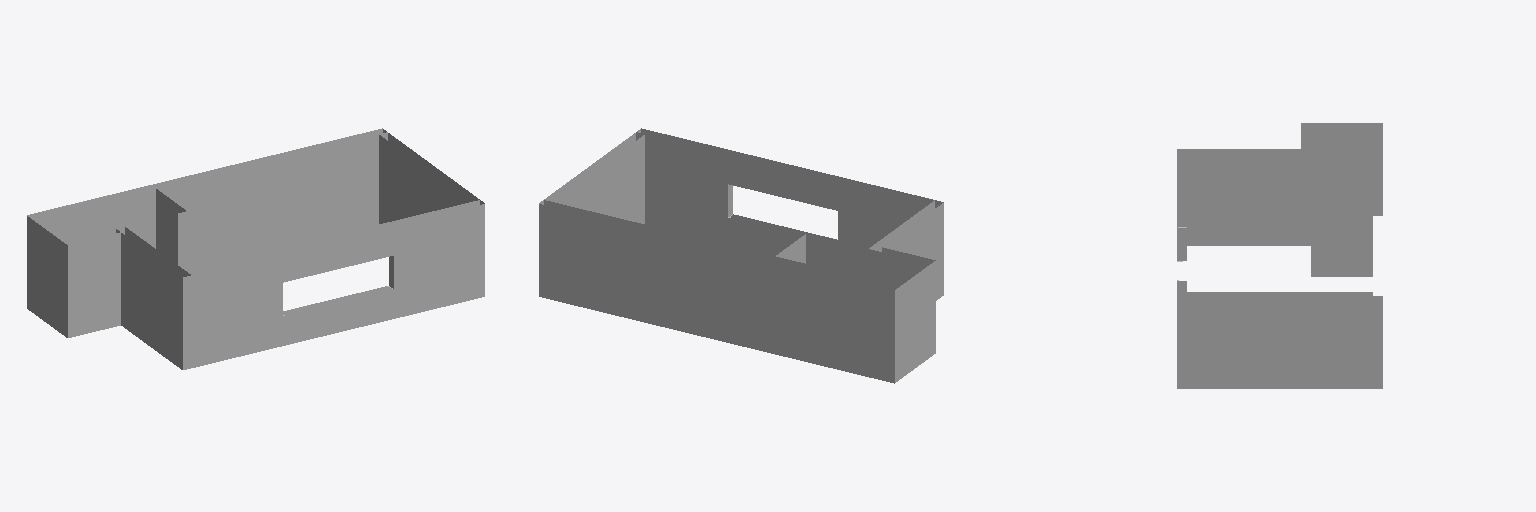
The model's file is paredes_novas2.obj.
3 renders of one model, left to right at view 1: azimuth 30°, elevation 25°; view 2: azimuth 150°, elevation 25°; view 3: azimuth 270°, elevation 25°, orthographic.
Visible parts, largest first — view 1: parede_nova; view 2: parede_nova; view 3: parede_nova.
Part boxes in pixels (bbox=[...]): parede_nova: bbox=[27, 128, 484, 369]; parede_nova: bbox=[539, 128, 943, 383]; parede_nova: bbox=[1177, 123, 1382, 388].
Bounding box in the file's own units: 40 × 10 × 20.